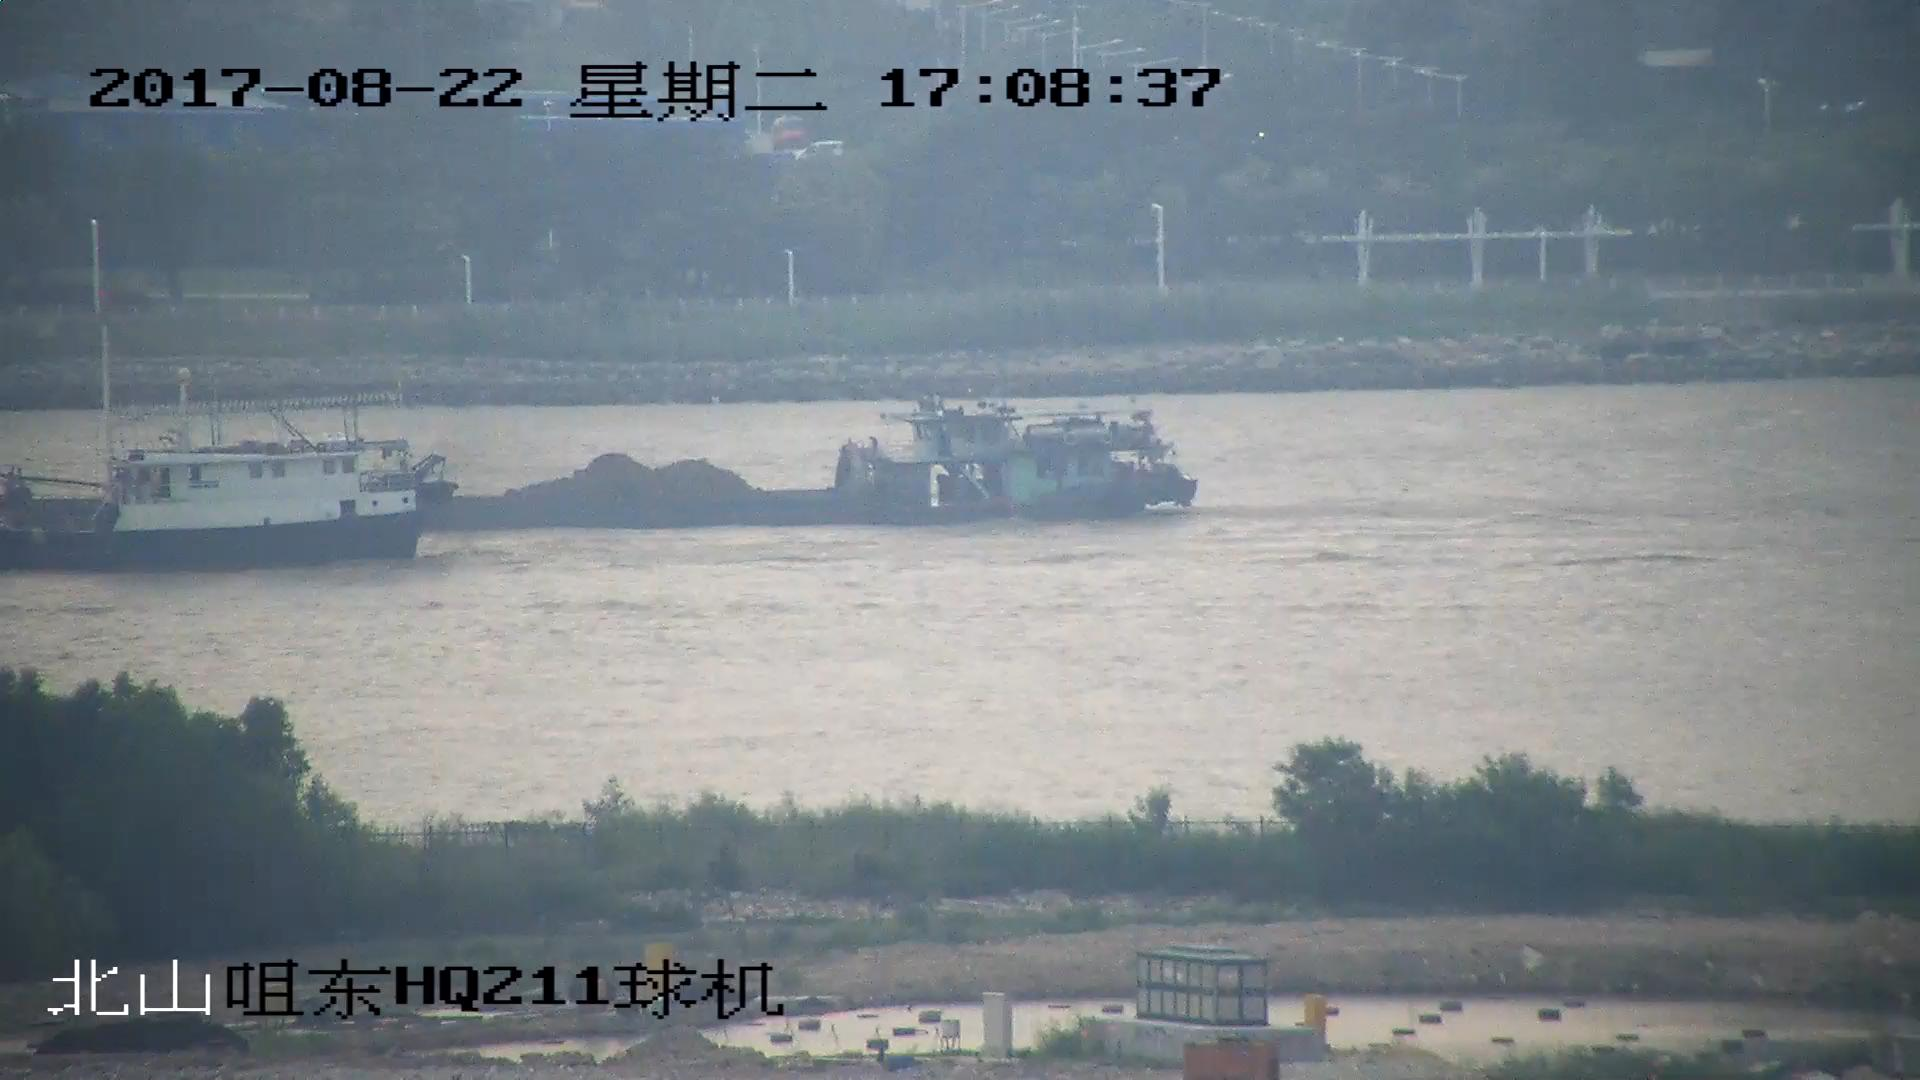fishing boat: (1, 379, 440, 571)
ore carrier: (1, 399, 1202, 533)
